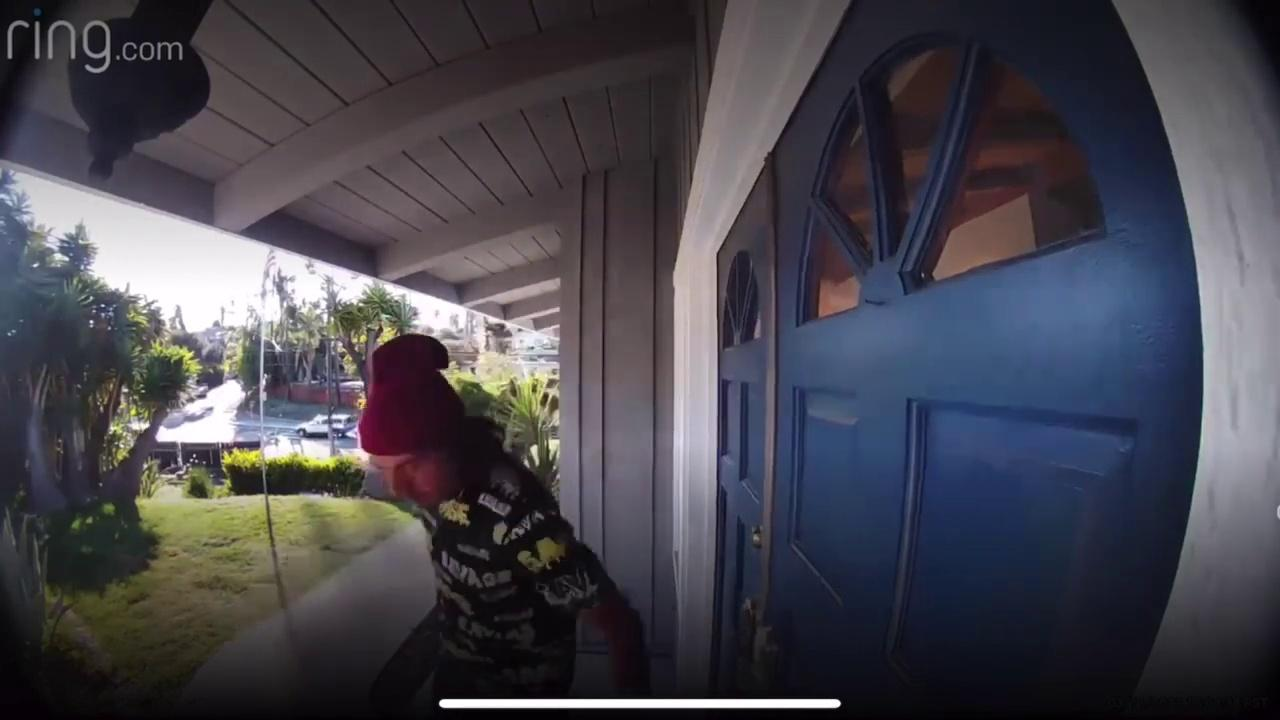suspicion: (298, 234, 666, 720)
